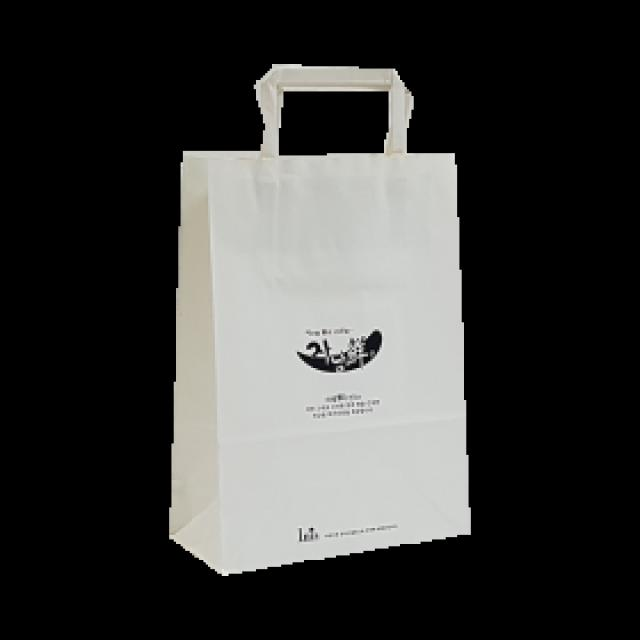paper bag: (166, 142, 478, 582)
